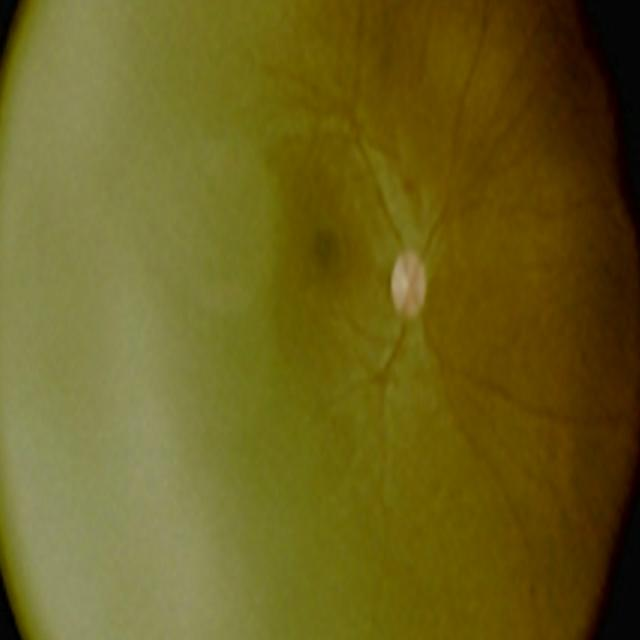optic-nerve: (367, 201, 455, 377)
